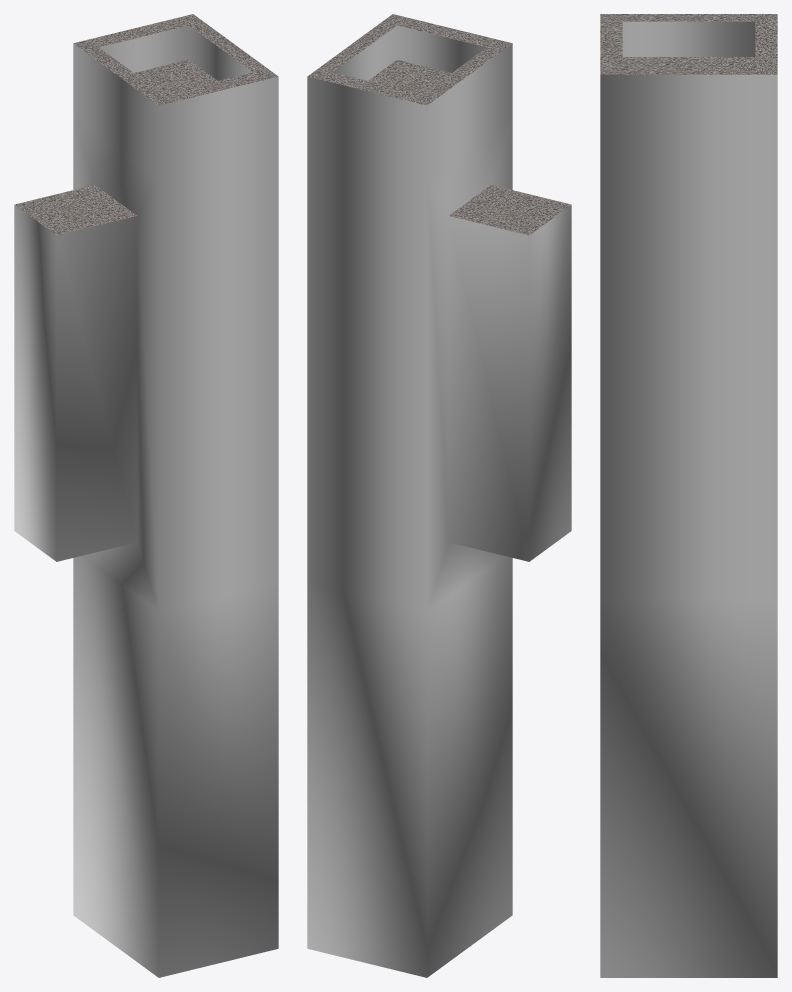
The model's file is PostApocCity4.fbx.
3 views of the same model, side by side, from view 1: azimuth 30°, elevation 25°; view 2: azimuth 150°, elevation 25°; view 3: azimuth 270°, elevation 25° (orthographic). The views are drawn at different scales.
Visible parts, largest first — view 1: CityGen.004; view 2: CityGen.004; view 3: CityGen.004.
Part boxes in pixels (x1=…): CityGen.004: x1=14, y1=14, x2=278, y2=977; CityGen.004: x1=307, y1=14, x2=571, y2=977; CityGen.004: x1=600, y1=14, x2=777, y2=977.
Size of the model in its own units: 53.55 by 223 by 39.55.
